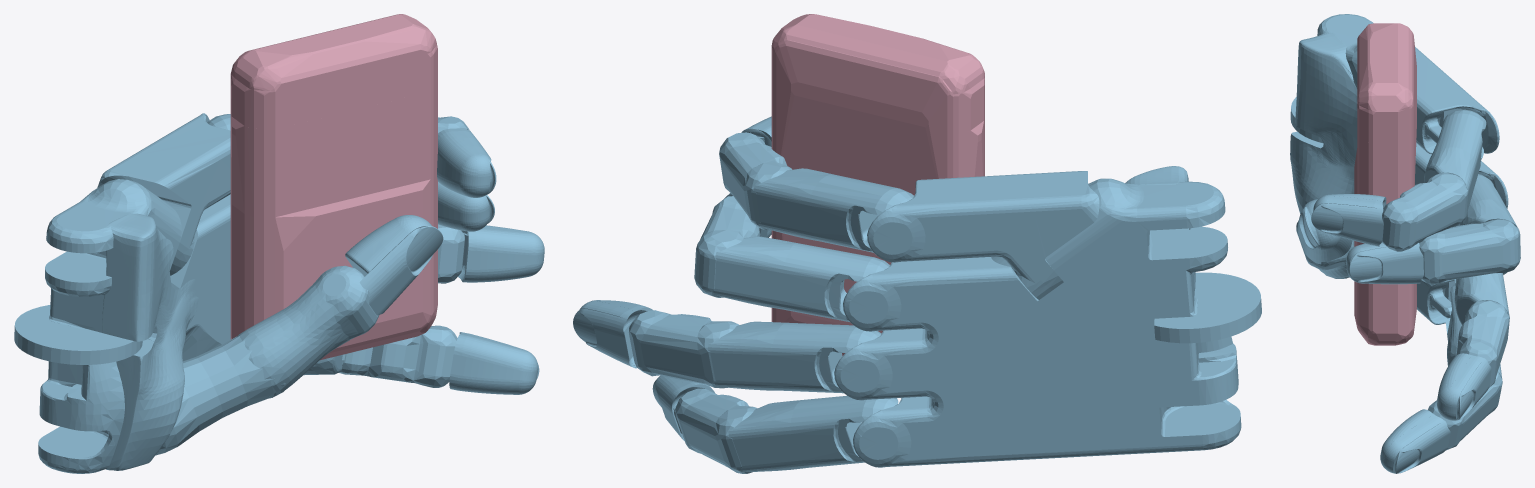
3 renders of one model, left to right at view 1: azimuth 30°, elevation 25°; view 2: azimuth 150°, elevation 25°; view 3: azimuth 270°, elevation 25°, orthographic. The views are drawn at different scales.
Parts seen in each view (by area): view 1: hand_isaac_q, world; view 2: hand_isaac_q, world; view 3: hand_isaac_q, world.
Boxes of the visible parts, box(x1,y1,x2,y2) form: hand_isaac_q: box(14, 113, 544, 473); world: box(230, 14, 437, 360); hand_isaac_q: box(573, 116, 1261, 473); world: box(771, 14, 984, 355); hand_isaac_q: box(1290, 14, 1520, 473); world: box(1354, 23, 1416, 345).
Size of the model in its own units: 0.2056 by 0.1364 by 0.0835.
